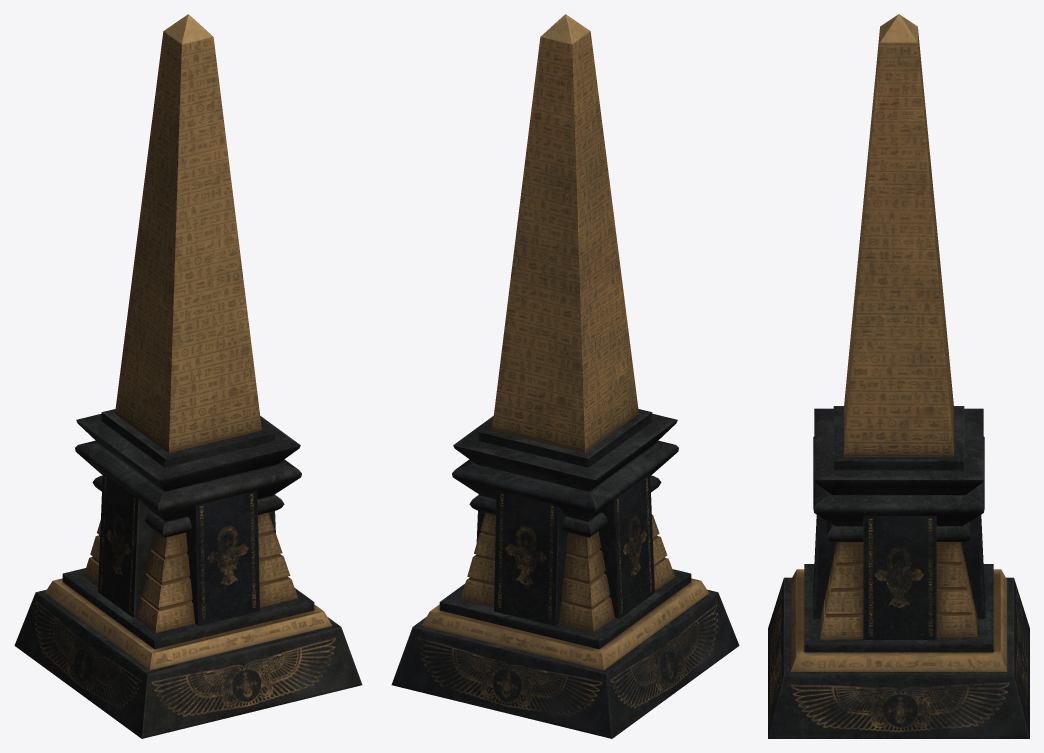
The model's file is egyptian_obelisk.glb.
3 views of the same model, side by side, from view 1: azimuth 30°, elevation 25°; view 2: azimuth 150°, elevation 25°; view 3: azimuth 270°, elevation 25° (orthographic). The views are drawn at different scales.
Visible parts, largest first — view 1: Egyptian Ovelisk_0; view 2: Egyptian Ovelisk_0; view 3: Egyptian Ovelisk_0.
Boxes of the visible parts, x1,y1,x2,y2 form: Egyptian Ovelisk_0: (14,14,362,738); Egyptian Ovelisk_0: (391,14,739,738); Egyptian Ovelisk_0: (768,14,1029,738).
Size of the model in its own units: 3.24 by 9.14 by 3.24.
1 material, 1 textured.
